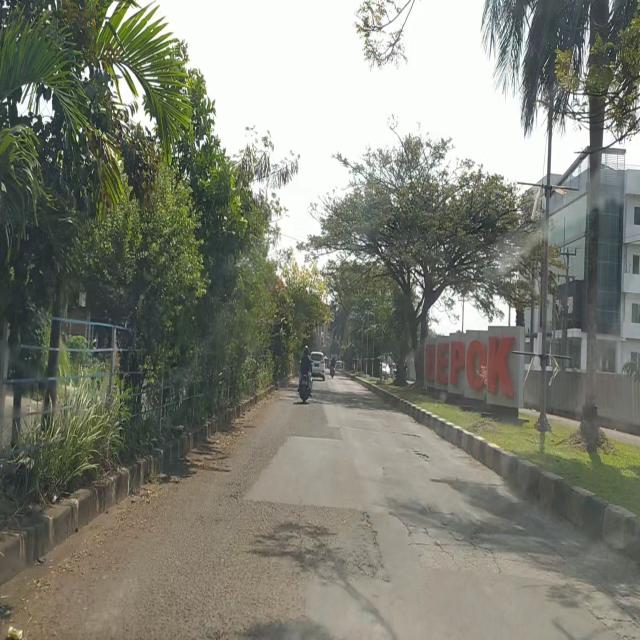Drain Hole: (399, 503, 505, 570)
